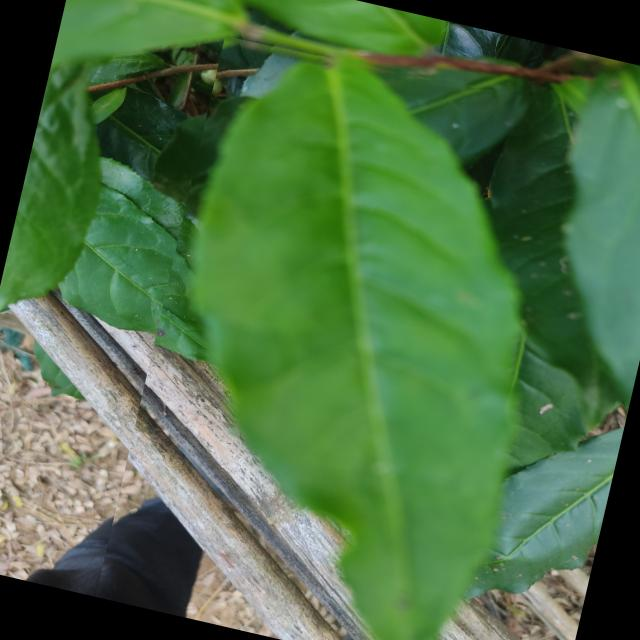Category D(7+ days, Not for Tea): (95, 27, 604, 640)
